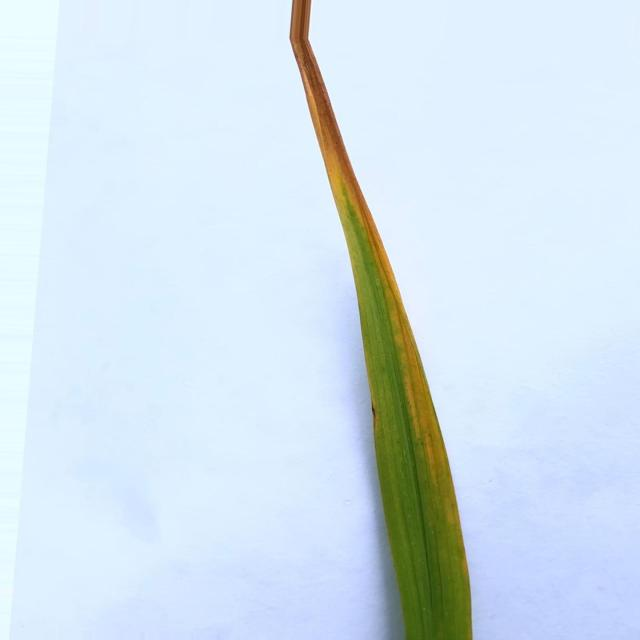Rice Tungro: (290, 0, 360, 191), (400, 310, 450, 471), (343, 191, 398, 293)
